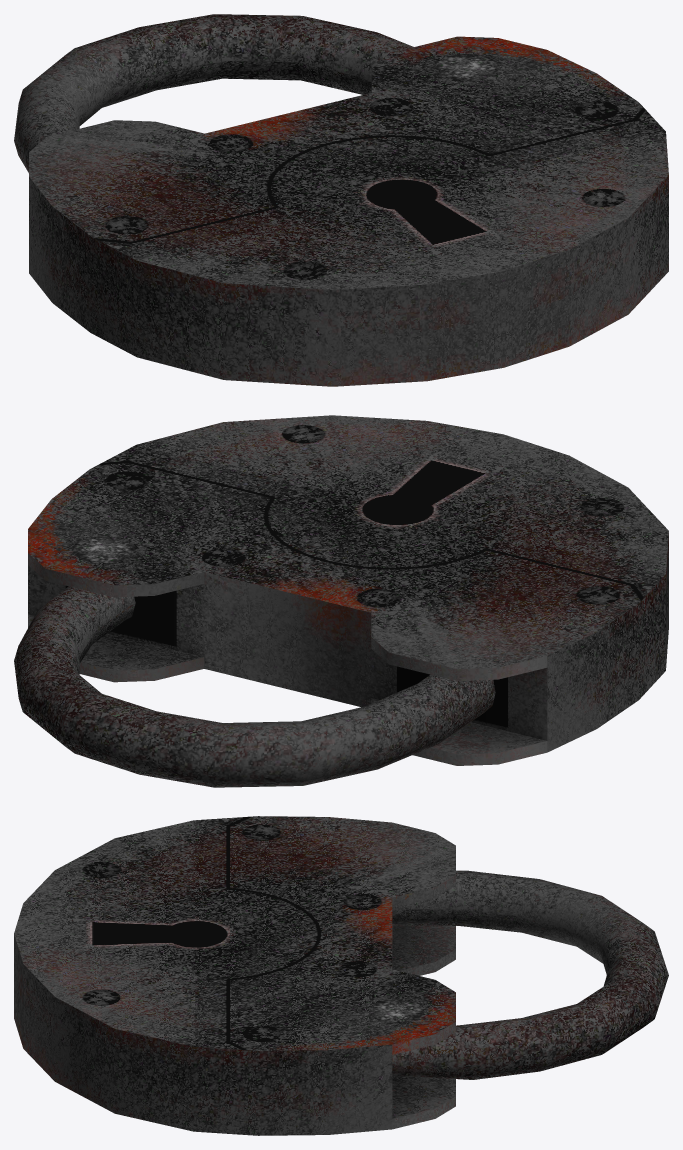
The picture shows the model from 3 angles, top to bottom: view 1: azimuth 30°, elevation 25°; view 2: azimuth 150°, elevation 25°; view 3: azimuth 270°, elevation 25°; orthographic projection. The views are drawn at different scales.
Visible parts, largest first — view 1: Object_6; view 2: Object_6; view 3: Object_6.
Part boxes in pixels (<box>): Object_6: <box>14,14,668,386</box>; Object_6: <box>14,415,668,787</box>; Object_6: <box>14,816,668,1135</box>.
Size of the model in its own units: 0.1624 by 0.0274 by 0.1914.
Materials: 1 (1 with a texture image).
